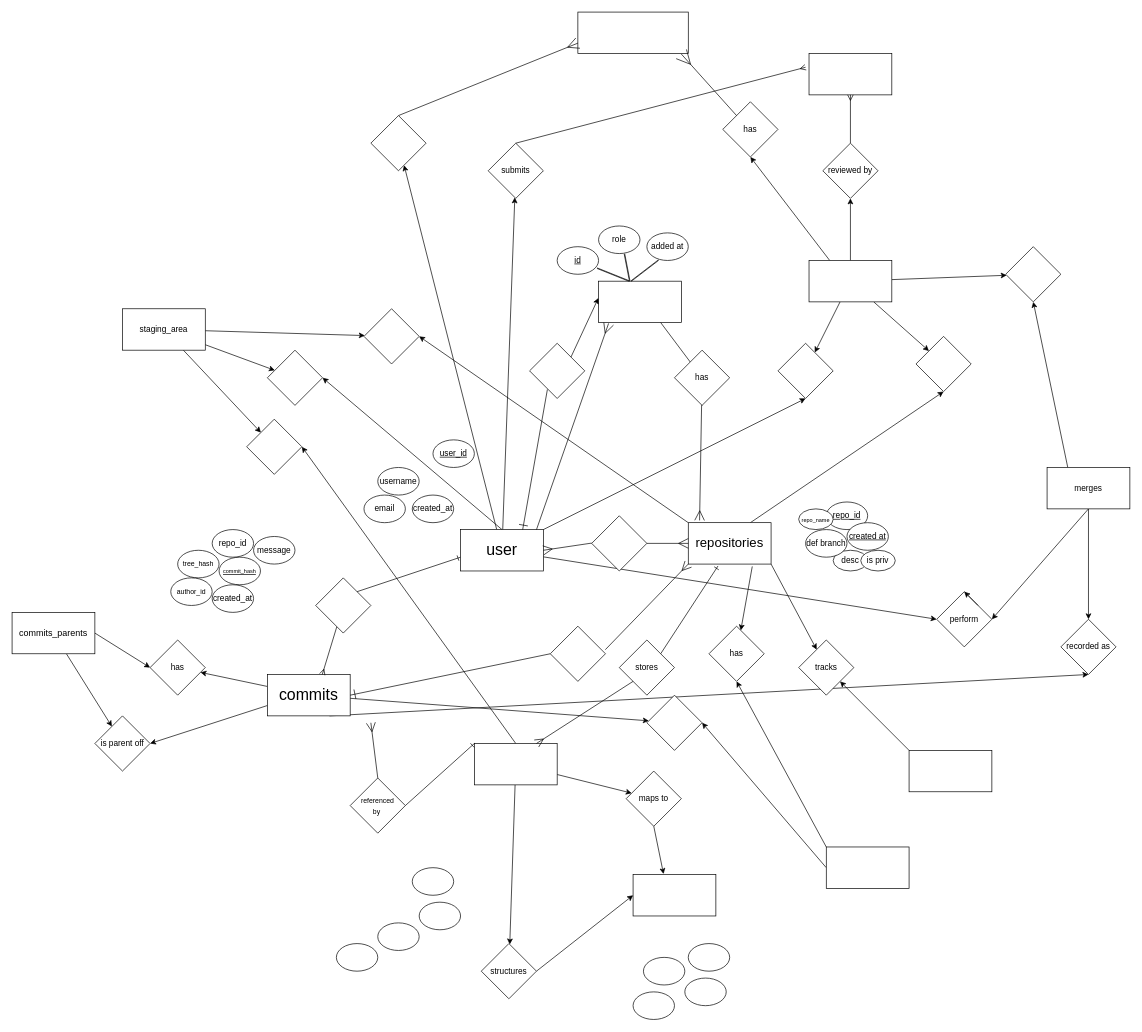
The diagram is 1142 pixels wide and 1032 high, and some of its shapes have lost their labels. The centre of each missing label's shape, as x and y in pixels:
"act as" goes at (557,370).
"branches" goes at (867,867).
"collaborators" goes at (639,301).
"complete" goes at (1033,274).
"contains" goes at (577,653).
"head" goes at (950,771).
"makes" goes at (343,605).
"objects" goes at (515,764).
"open" goes at (805,370).
"owns" goes at (619,543).
"points to" goes at (674,722).
"pr comments" goes at (632,32).
"pr reviews" goes at (850,74).
"pull_requests" goes at (850,281).
"queses" goes at (295,377).
"receive" goes at (943,364).
"ref to" goes at (274,446).
"stages" goes at (391,336).
"tree" goes at (674,895).
"writes" goes at (398,143).
